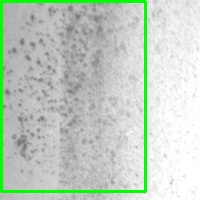pitted_surface: (1, 1, 145, 191)
